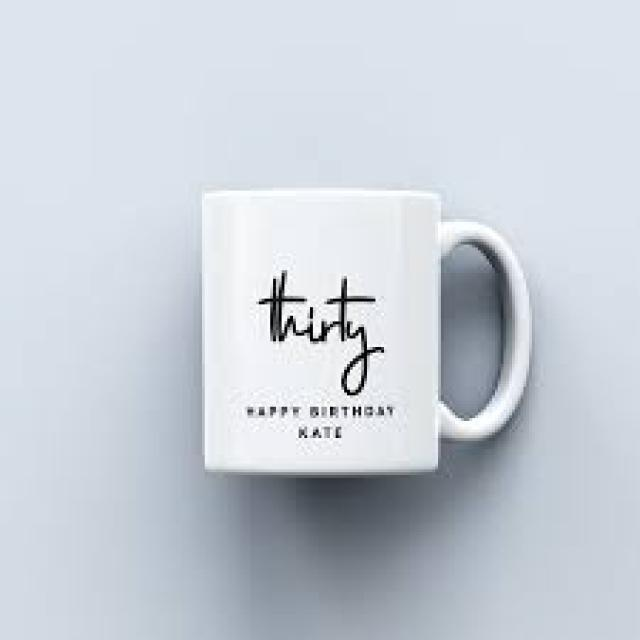taza: (201, 186, 534, 474)
